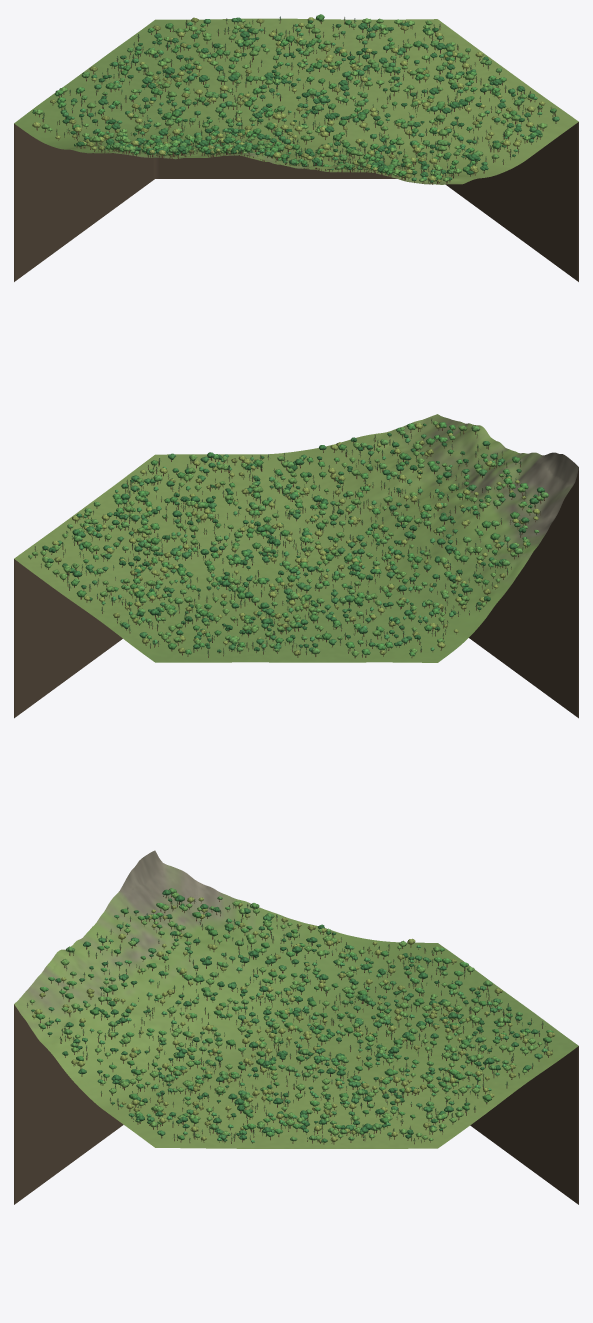
3 views of the same model, one above another, from view 1: azimuth 30°, elevation 25°; view 2: azimuth 150°, elevation 25°; view 3: azimuth 270°, elevation 25° (orthographic).
Visible parts, largest first — view 1: terrain, broadleaf_canopy, hex_side_cut, trunks, conifer_canopy; view 2: terrain, broadleaf_canopy, hex_side_cut, trunks, conifer_canopy; view 3: terrain, broadleaf_canopy, hex_side_cut, trunks, conifer_canopy.
Part boxes in pixels (box(x1,y1,x2,y2)): terrain: box(14, 18, 578, 184); broadleaf_canopy: box(32, 14, 559, 182); hex_side_cut: box(14, 122, 578, 281); trunks: box(35, 17, 556, 184); conifer_canopy: box(42, 16, 555, 181); terrain: box(14, 414, 578, 662); broadleaf_canopy: box(28, 421, 548, 656); hex_side_cut: box(14, 468, 578, 718); trunks: box(30, 419, 544, 658); conifer_canopy: box(34, 420, 538, 655); terrain: box(14, 850, 578, 1148); broadleaf_canopy: box(29, 888, 554, 1142); hex_side_cut: box(14, 1004, 578, 1204); trunks: box(27, 895, 552, 1144); conifer_canopy: box(27, 897, 551, 1140).
Size of the model in its own units: 4330 by 2473 by 5000.
Materials: 6 (1 with a texture image).
